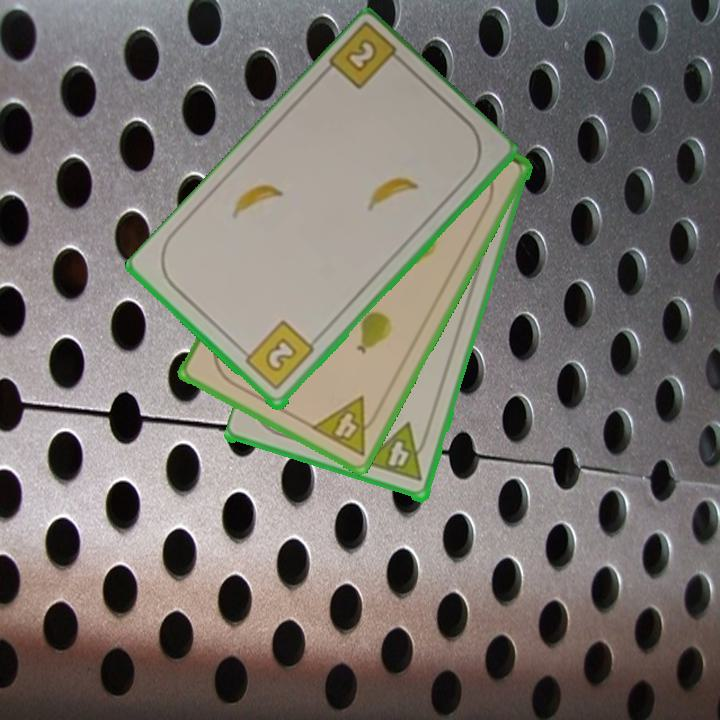2b: (237, 317, 318, 394), (324, 22, 410, 93)
4p: (307, 393, 385, 460), (362, 421, 433, 485)
